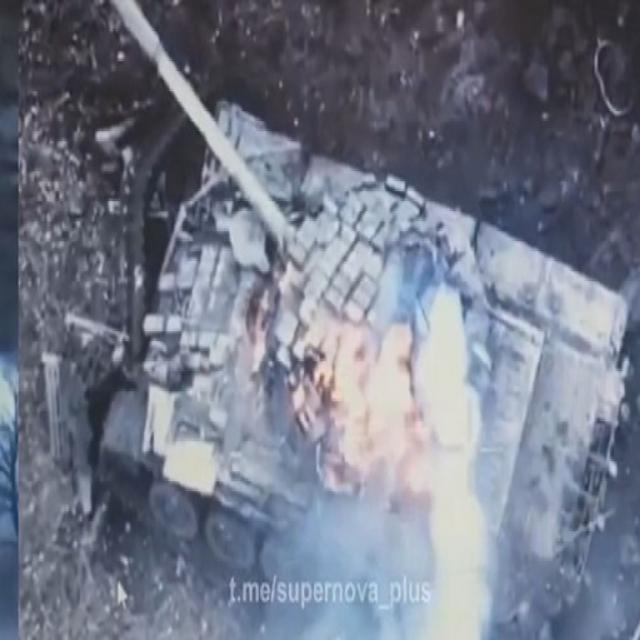TANK: (97, 2, 628, 636)
